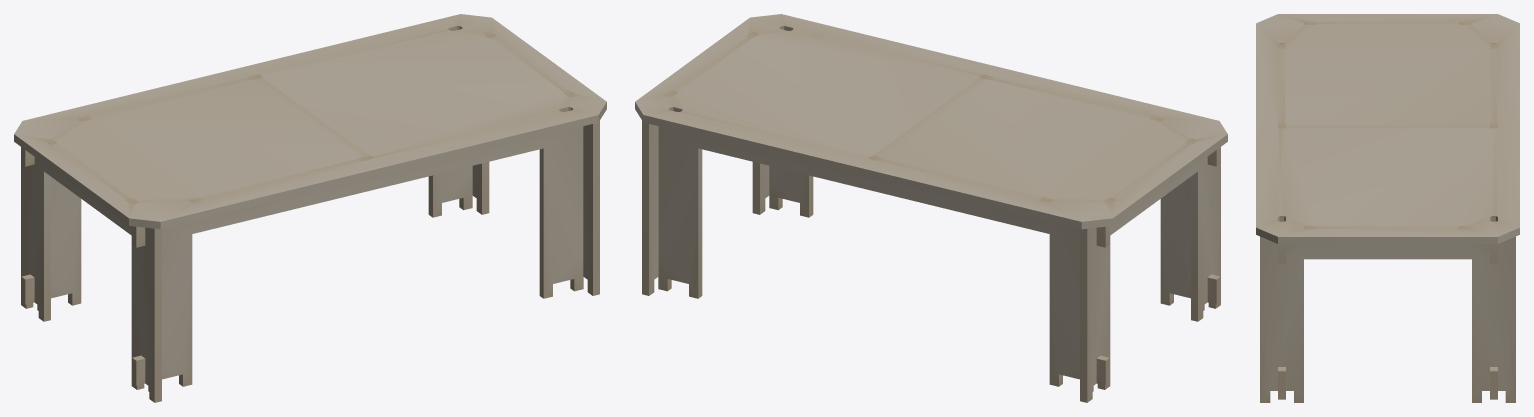
File: NODO_MESA_RATONA_PORTICO_KIRI_MDF18_PRUEBA.glb
3 views of the same model, side by side, from view 1: azimuth 30°, elevation 25°; view 2: azimuth 150°, elevation 25°; view 3: azimuth 270°, elevation 25° (orthographic). The views are drawn at different scales.
Visible parts, largest first — view 1: Tapa, Lado 2, Frente, Lado 1, Contrafrente; view 2: Tapa, Lado 1, Frente, Lado 2, Contrafrente; view 3: Tapa, Contrafrente, Lado 2, Lado 1.
Boxes of the visible parts, box(x1,y1,x2,y2) form: Tapa: box(14, 14, 606, 229); Lado 2: box(132, 116, 583, 391); Frente: box(21, 138, 161, 402); Lado 1: box(21, 35, 472, 310); Contrafrente: box(472, 32, 599, 295); Tapa: box(635, 14, 1227, 229); Lado 1: box(658, 118, 1109, 391); Frente: box(1080, 138, 1220, 402); Lado 2: box(769, 33, 1220, 310); Contrafrente: box(642, 32, 769, 295); Tapa: box(1256, 14, 1519, 243); Contrafrente: box(1260, 226, 1515, 402); Lado 2: box(1278, 43, 1285, 399); Lado 1: box(1490, 43, 1497, 399).
Size of the model in its own units: 1.2 by 0.436 by 0.6.
